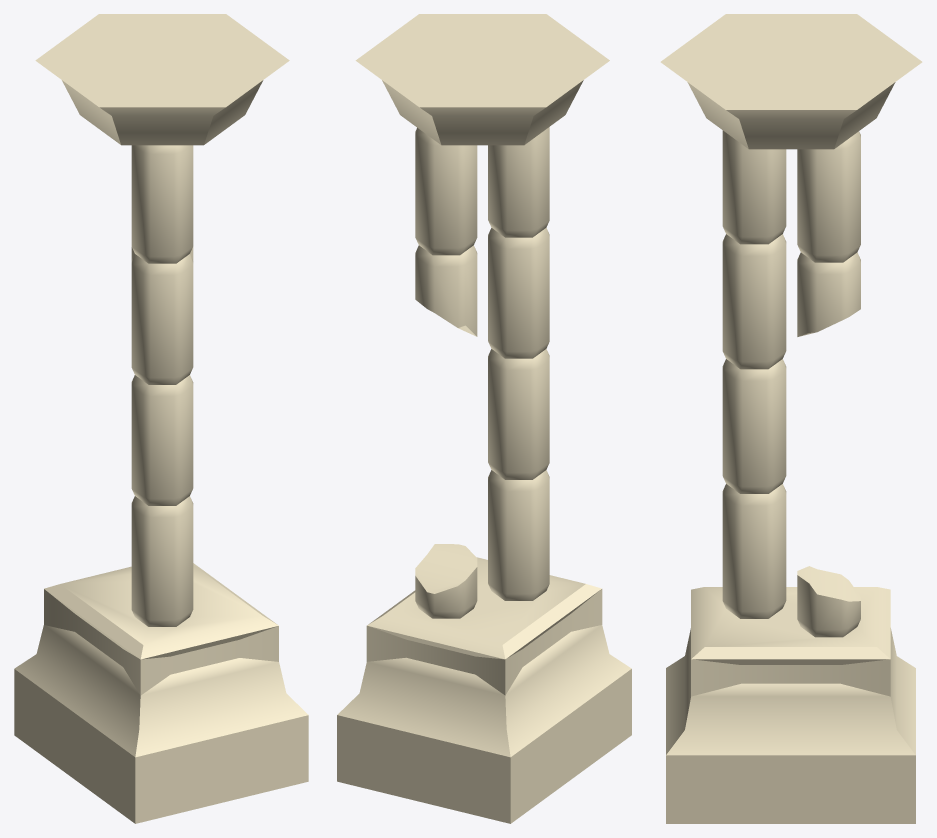
File: Destroy_Pillar_1.fbx
The picture shows the model from 3 angles, left to right: view 1: azimuth 30°, elevation 25°; view 2: azimuth 150°, elevation 25°; view 3: azimuth 270°, elevation 25°; orthographic projection. The views are drawn at different scales.
Visible parts, largest first — view 1: Destroy_Pillar_1_LOD0; view 2: Destroy_Pillar_1_LOD0; view 3: Destroy_Pillar_1_LOD0.
Boxes of the visible parts, box(x1,y1,x2,y2) form: Destroy_Pillar_1_LOD0: box(14, 14, 308, 823); Destroy_Pillar_1_LOD0: box(337, 14, 631, 823); Destroy_Pillar_1_LOD0: box(660, 14, 922, 823).
Size of what is drawn, in the model's own units: 330 by 1152 by 381.
